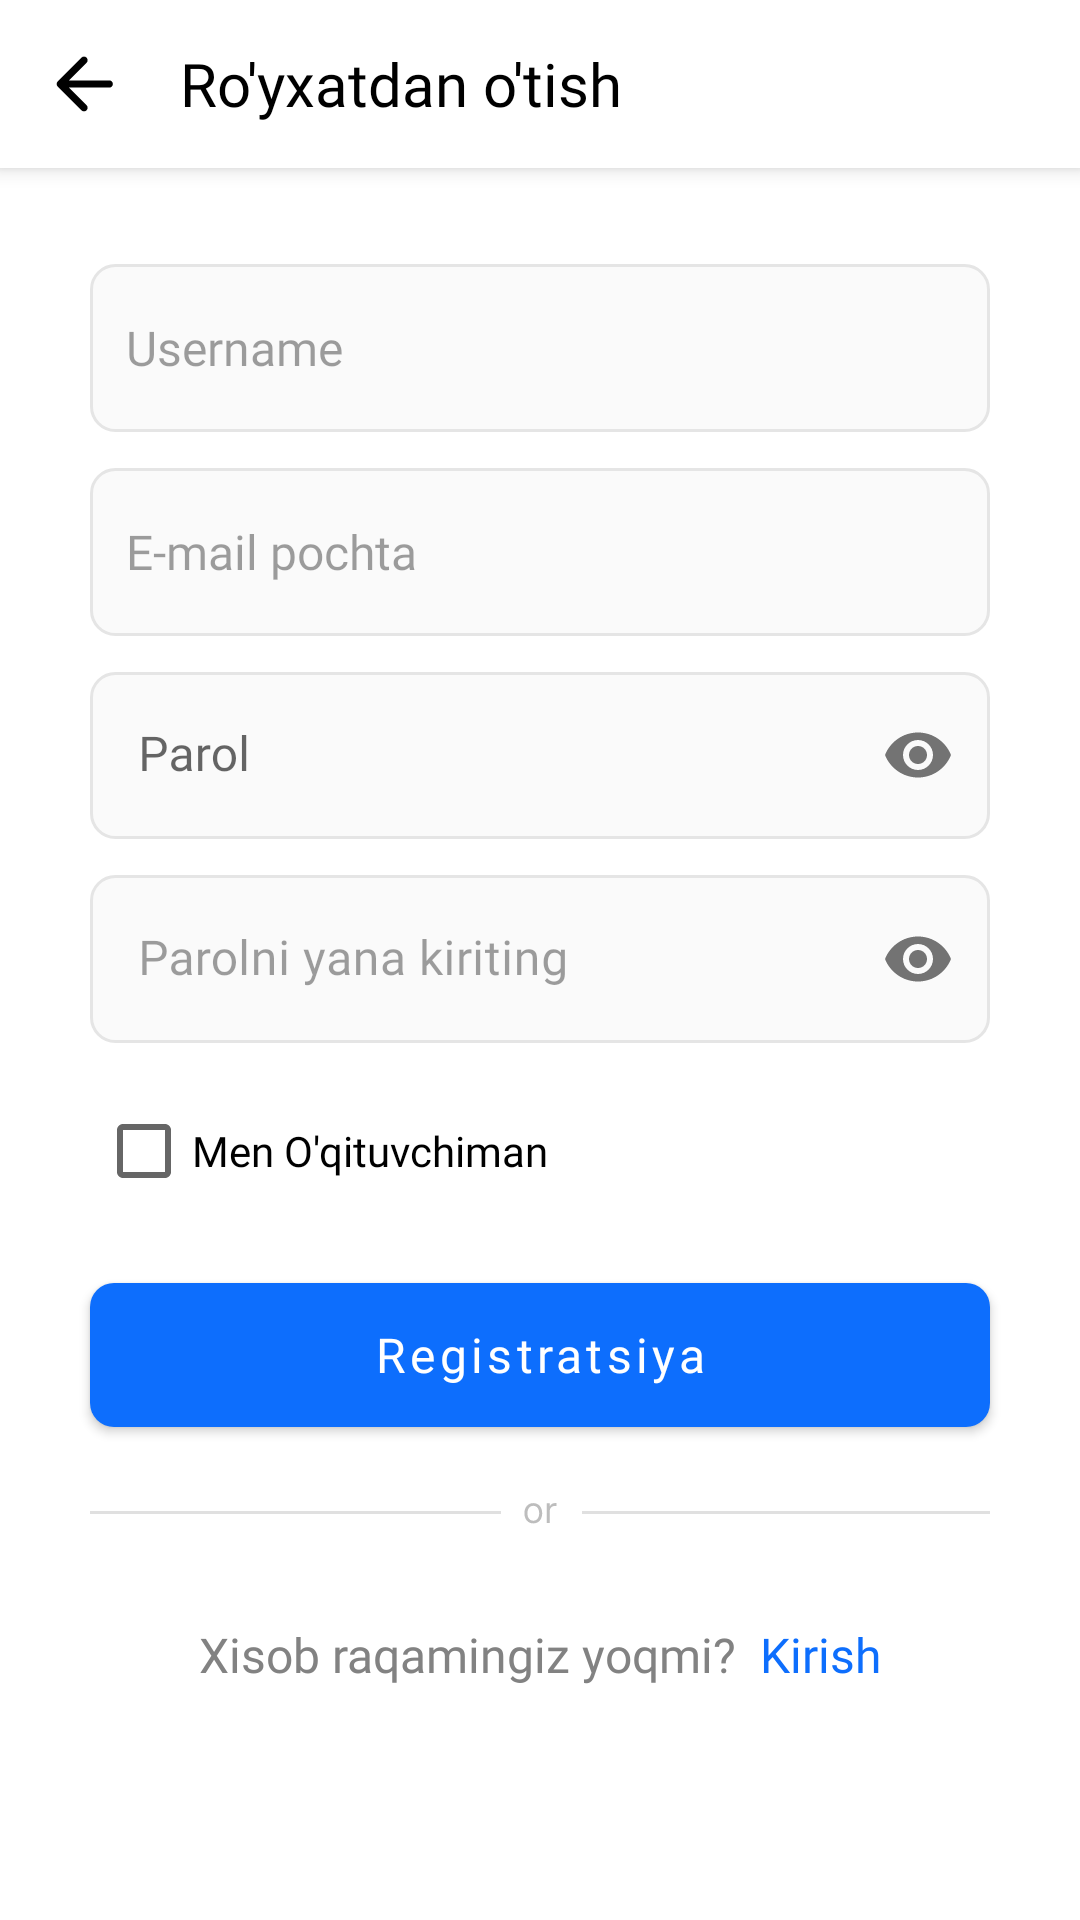

Icons on this 1080 x 1920 Android screen, each with its box as (x1, y1, x2, y2):
back: (56, 56, 113, 112)
